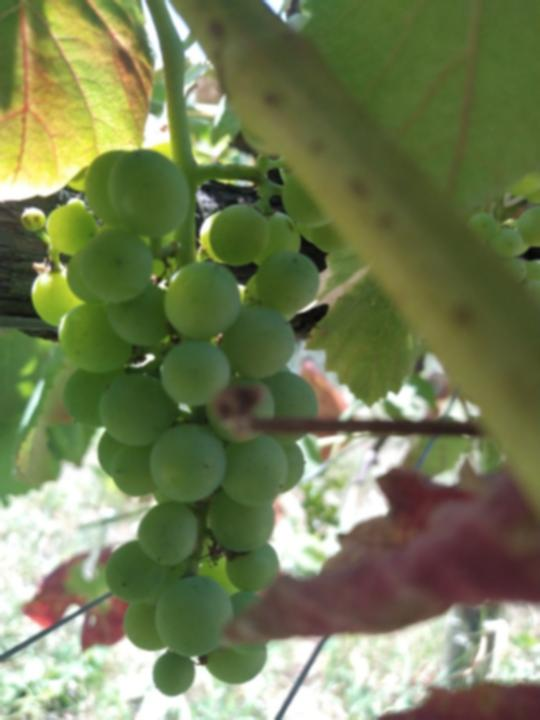grape: (18, 149, 320, 700)
